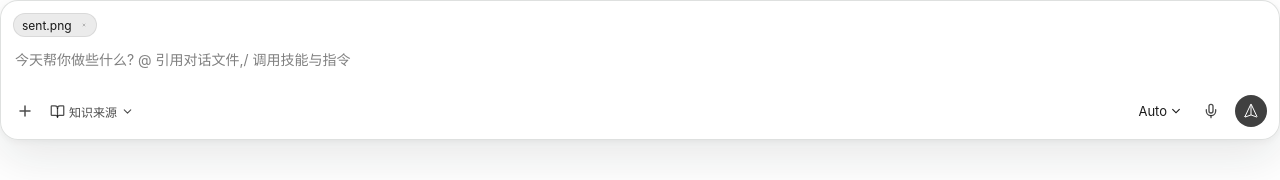
Scenario: Composer clipboard paste of images › 发送成功后保留已转交给会话的粘贴图片
Expected: the text "sent.png" is shown, [22, 18, 72, 32]
Step 1. Click the button named "发送" → (1251, 111), box [1235, 95, 1267, 127]
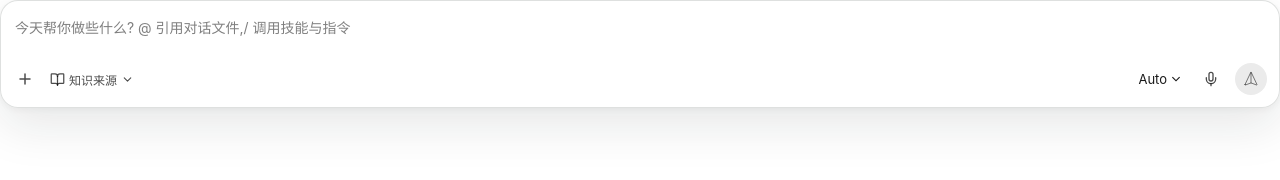
Result: the text "sent.png" is gone
